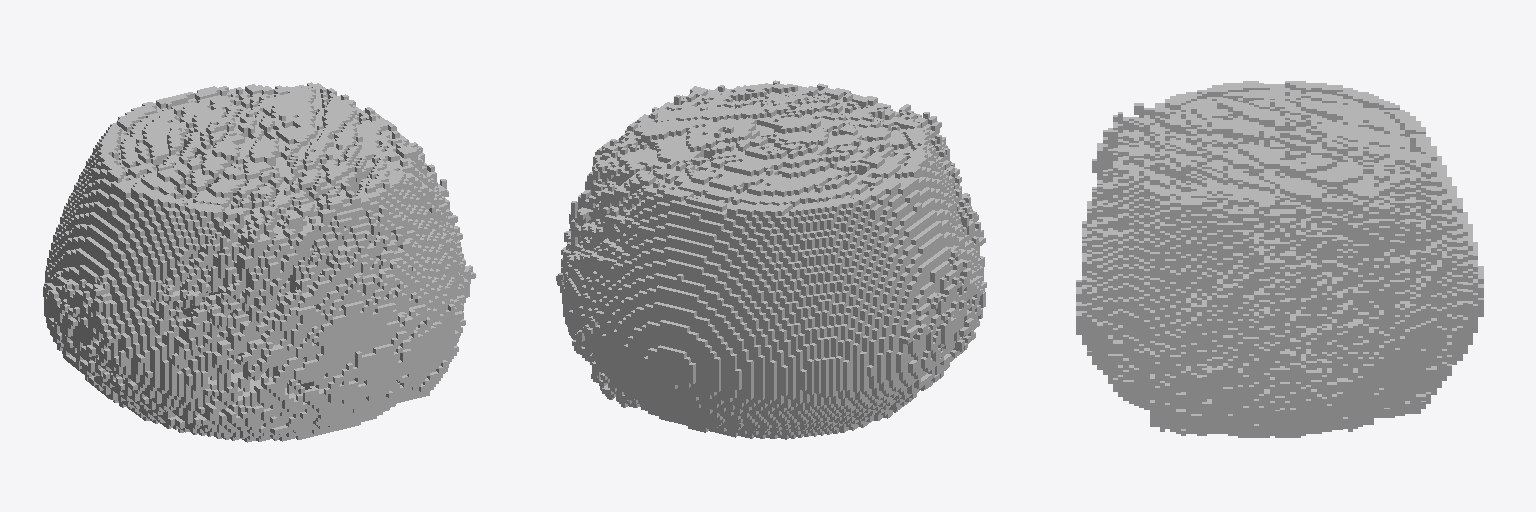
Rendered from Stone.obj.
3 views of the same model, side by side, from view 1: azimuth 30°, elevation 25°; view 2: azimuth 150°, elevation 25°; view 3: azimuth 270°, elevation 25° (orthographic).
Visible parts, largest first — view 1: object 1; view 2: object 1; view 3: object 1.
Boxes of the visible parts, box(x1,y1,x2,y2) form: object 1: box(43, 82, 475, 442); object 1: box(556, 80, 986, 439); object 1: box(1076, 81, 1483, 437).
Bounding box in the file's own units: 8.2 × 5.2 × 7.8.